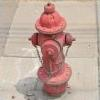a fire hydrant: (29, 2, 75, 99)
